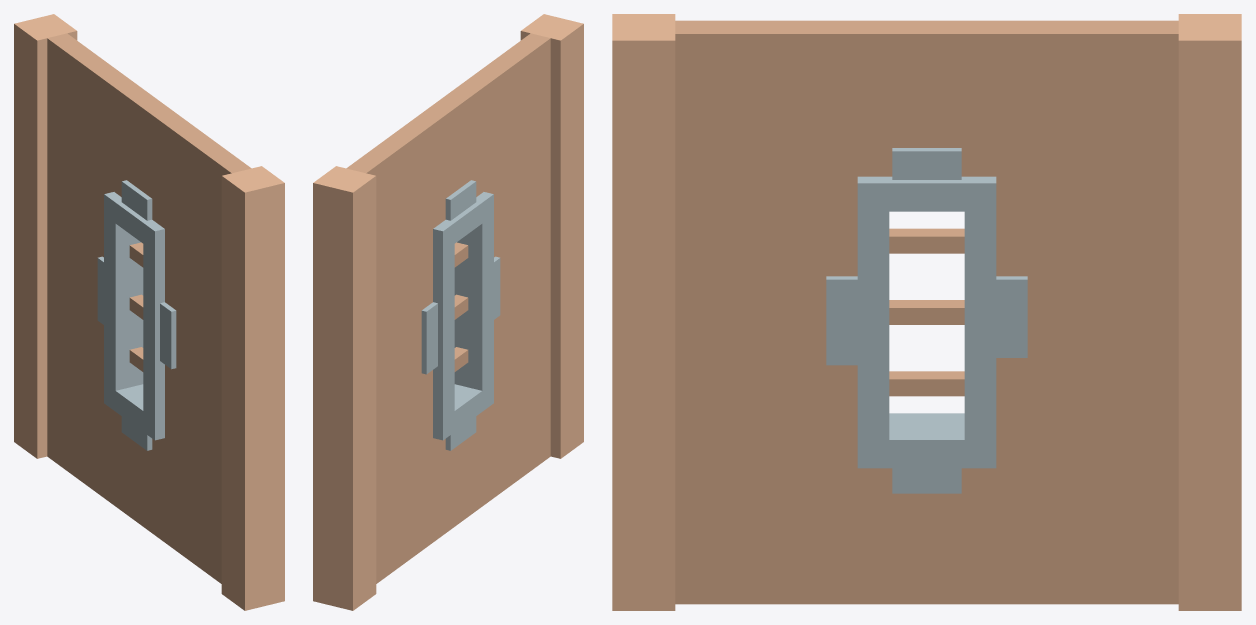
Rendered from wallWoodWindowStone.glb.
3 views of the same model, side by side, from view 1: azimuth 30°, elevation 25°; view 2: azimuth 150°, elevation 25°; view 3: azimuth 270°, elevation 25° (orthographic). The views are drawn at different scales.
Visible parts, largest first — view 1: wallWoodWindowStone; view 2: wallWoodWindowStone; view 3: wallWoodWindowStone.
Boxes of the visible parts, x1,y1,x2,y2 form: wallWoodWindowStone: (14,14,284,610); wallWoodWindowStone: (313,14,583,610); wallWoodWindowStone: (612,14,1241,610).
Bounding box in the file's own units: 0.1 × 1 × 1.
